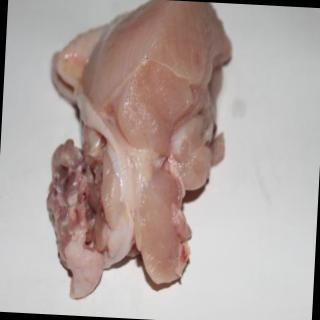Ayam: (43, 2, 233, 289)
